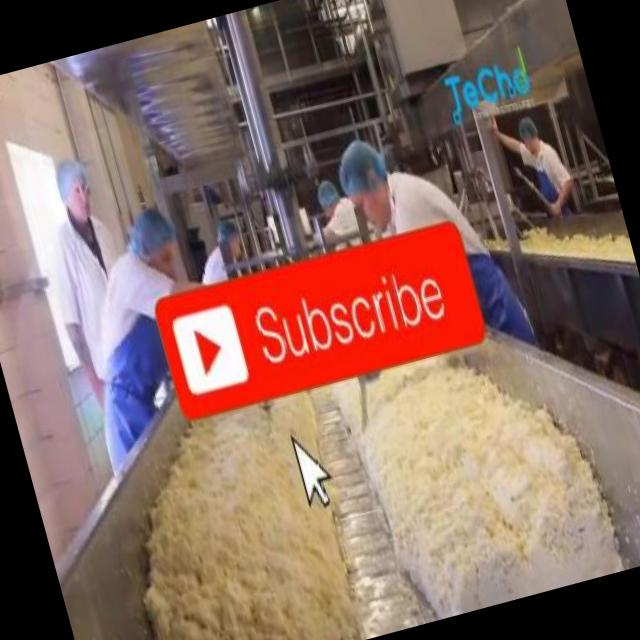hairnet: (332, 138, 390, 197), (126, 202, 178, 255), (53, 158, 90, 202), (213, 218, 242, 248), (314, 176, 338, 208), (517, 116, 540, 146)
